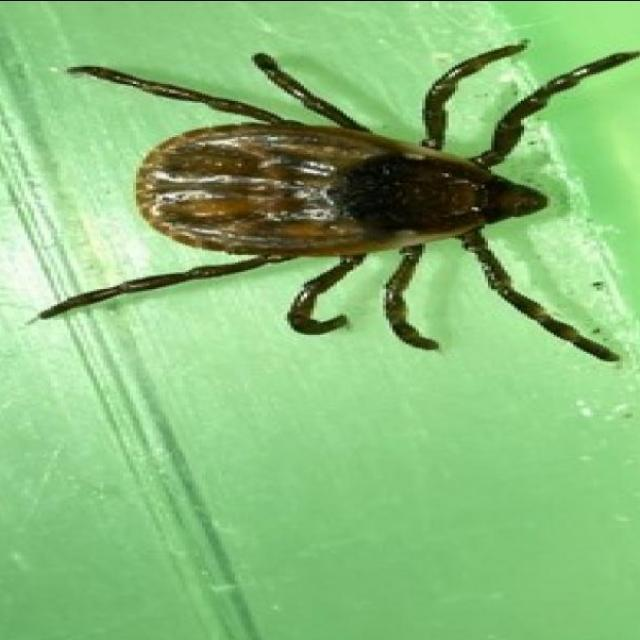Rhipicephalus Sanguineus-F: (41, 41, 640, 364)
